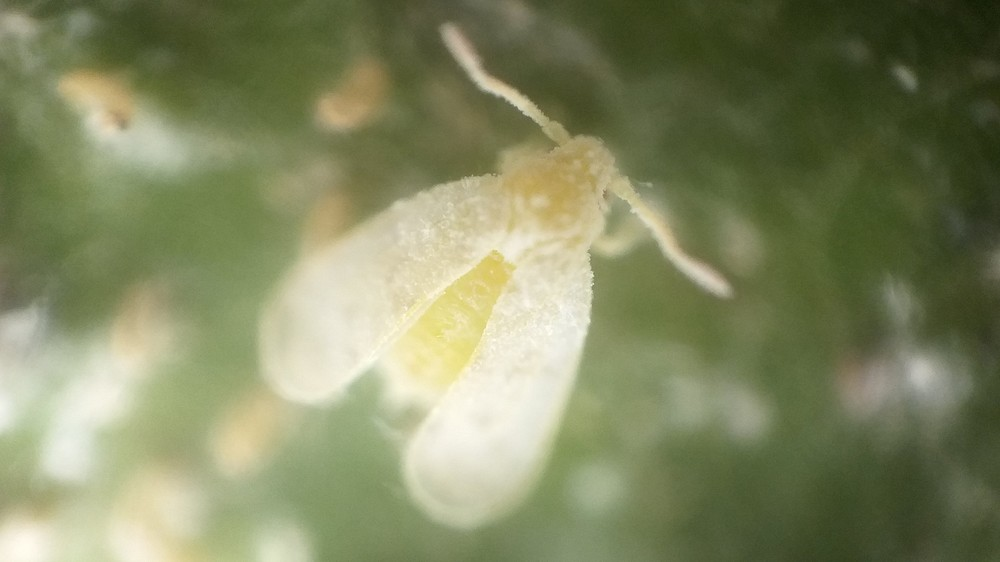Mosca Blanca: (251, 21, 760, 542)
